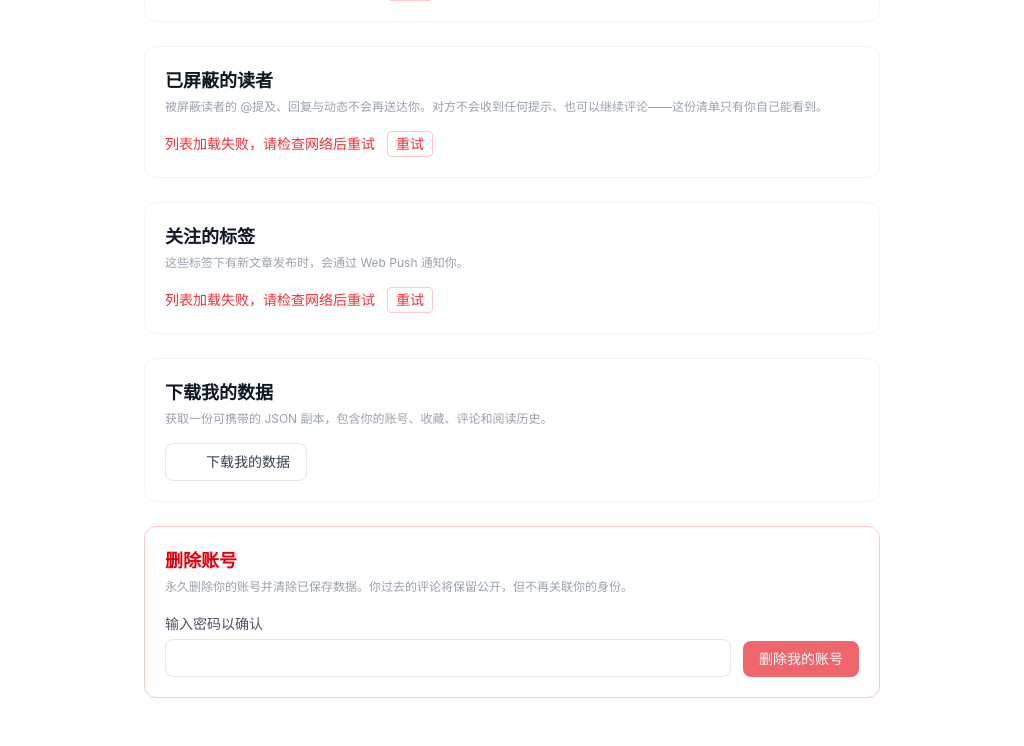
Test: Account settings page › data export (TASK-175) › shows a failure message on export error
This screenshot has width=1024, height=746.
(page scrolled)
Click the button "下载我的数据" at (236,462), box [165, 443, 307, 481]
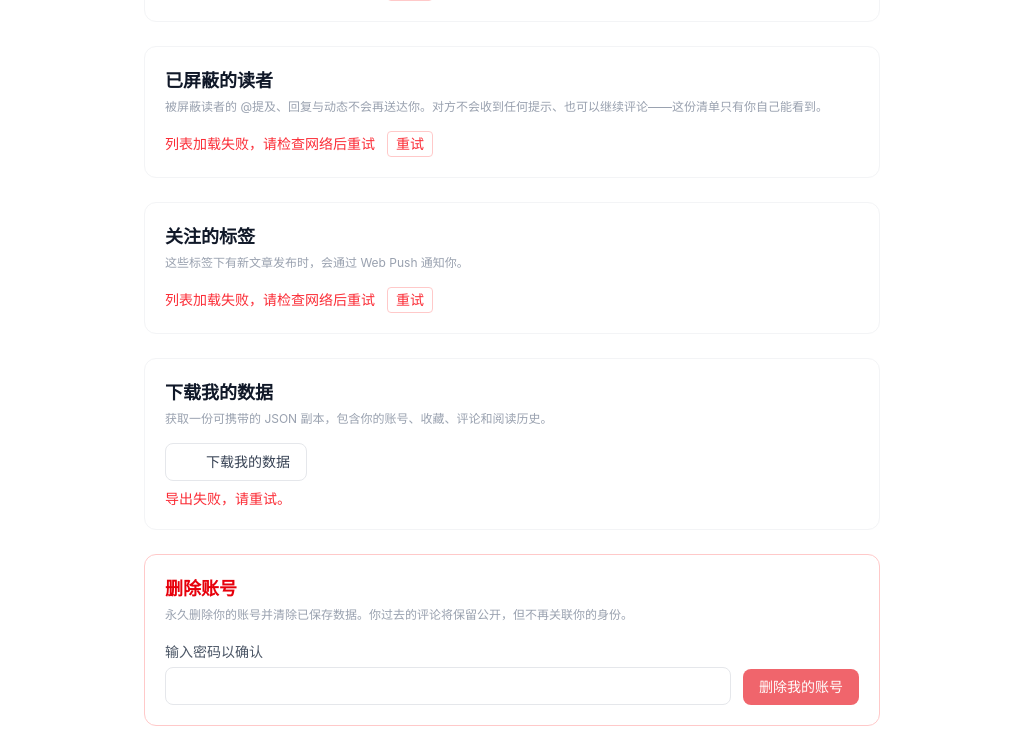
Result: the text "导出失败" is shown at [165, 490, 291, 507]
